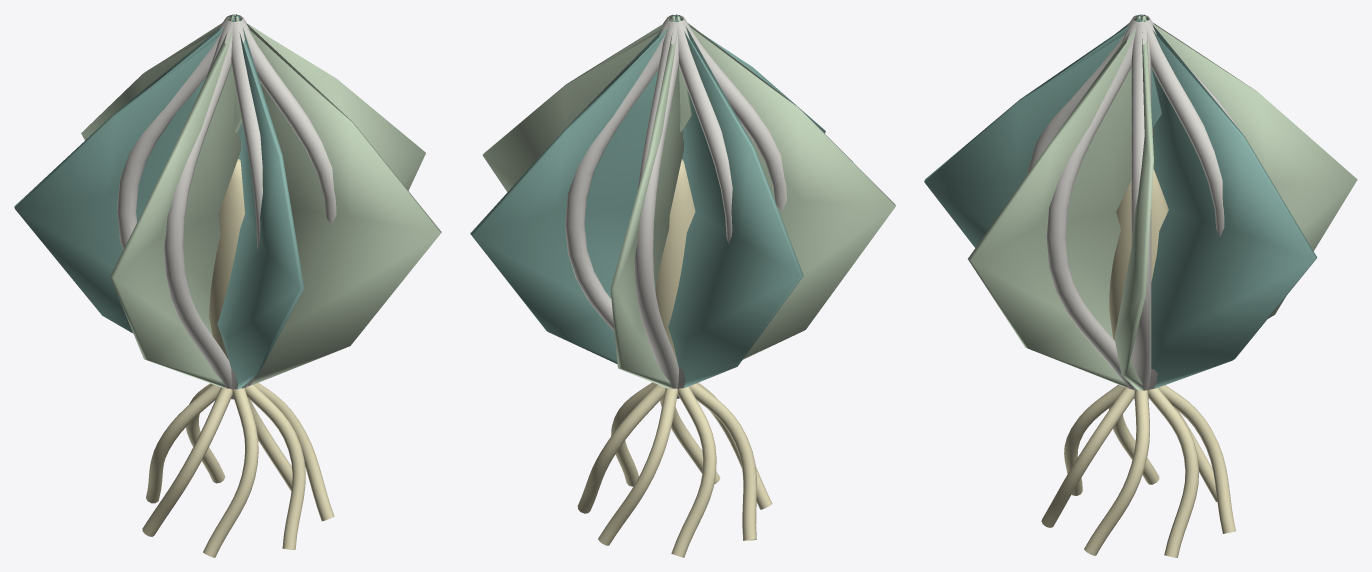
File: bio_lantern_sail_05_near.glb
The picture shows the model from 3 angles, left to right: view 1: azimuth 30°, elevation 25°; view 2: azimuth 150°, elevation 25°; view 3: azimuth 270°, elevation 25°; orthographic projection.
Parts seen in each view (by area): view 1: Ribbed sensory membrane.006, Ribbed sensory membrane.004, Ribbed sensory membrane.003, Ribbed sensory membrane.005, Membrane leading seam.004, Ribbed sensory membrane, Membrane leading seam.003, Membrane leading seam.006, Buoyancy spindle, Membrane leading seam.005, Trailing electroreceptor.004, Trailing electroreceptor.005 (+6 smaller); view 2: Ribbed sensory membrane.001, Ribbed sensory membrane.003, Ribbed sensory membrane.004, Ribbed sensory membrane.002, Ribbed sensory membrane, Membrane leading seam.002, Membrane leading seam.001, Membrane leading seam.003, Buoyancy spindle, Membrane leading seam.004, Trailing electroreceptor.002, Trailing electroreceptor.003 (+5 smaller); view 3: Ribbed sensory membrane.001, Ribbed sensory membrane.006, Ribbed sensory membrane.005, Ribbed sensory membrane.002, Membrane leading seam.006, Ribbed sensory membrane, Membrane leading seam, Membrane leading seam.001, Buoyancy spindle, Trailing electroreceptor, Trailing electroreceptor.006, Trailing electroreceptor.001 (+5 smaller).
Boxes of the visible parts, box(x1,y1,x2,y2) form: Ribbed sensory membrane.006: box(235, 14, 441, 385); Ribbed sensory membrane.004: box(110, 16, 241, 387); Ribbed sensory membrane.003: box(14, 17, 242, 333); Ribbed sensory membrane.005: box(217, 15, 304, 389); Membrane leading seam.004: box(164, 20, 238, 399); Ribbed sensory membrane: box(232, 14, 425, 190); Membrane leading seam.003: box(117, 17, 229, 249); Membrane leading seam.006: box(236, 17, 336, 387); Buoyancy spindle: box(209, 159, 244, 368); Membrane leading seam.005: box(231, 21, 262, 399); Trailing electroreceptor.004: box(203, 387, 258, 557); Trailing electroreceptor.005: box(245, 385, 305, 549); Ribbed sensory membrane.001: box(470, 16, 685, 364); Ribbed sensory membrane.003: box(668, 15, 803, 388); Ribbed sensory membrane.004: box(675, 14, 895, 359); Ribbed sensory membrane.002: box(610, 16, 683, 388); Ribbed sensory membrane: box(482, 16, 691, 191); Membrane leading seam.002: box(634, 21, 681, 389); Membrane leading seam.001: box(565, 18, 673, 331); Membrane leading seam.003: box(672, 20, 732, 398); Buoyancy spindle: box(655, 159, 695, 368); Membrane leading seam.004: box(680, 17, 786, 211); Trailing electroreceptor.002: box(671, 386, 716, 557); Trailing electroreceptor.003: box(689, 383, 756, 540); Ribbed sensory membrane.001: box(1142, 14, 1317, 388); Ribbed sensory membrane.006: box(968, 16, 1152, 387); Ribbed sensory membrane.005: box(924, 16, 1162, 247); Ribbed sensory membrane.002: box(1140, 14, 1357, 318); Membrane leading seam.006: box(1046, 19, 1137, 399); Ribbed sensory membrane: box(1114, 16, 1153, 390); Membrane leading seam: box(1131, 22, 1151, 390); Membrane leading seam.001: box(1145, 19, 1224, 398); Buoyancy spindle: box(1109, 169, 1168, 340); Trailing electroreceptor: box(1148, 388, 1198, 557); Trailing electroreceptor.006: box(1084, 390, 1149, 555); Trailing electroreceptor.001: box(1158, 385, 1235, 533).
Bounding box in the file's own units: 2.14 × 2.82 × 2.19.
